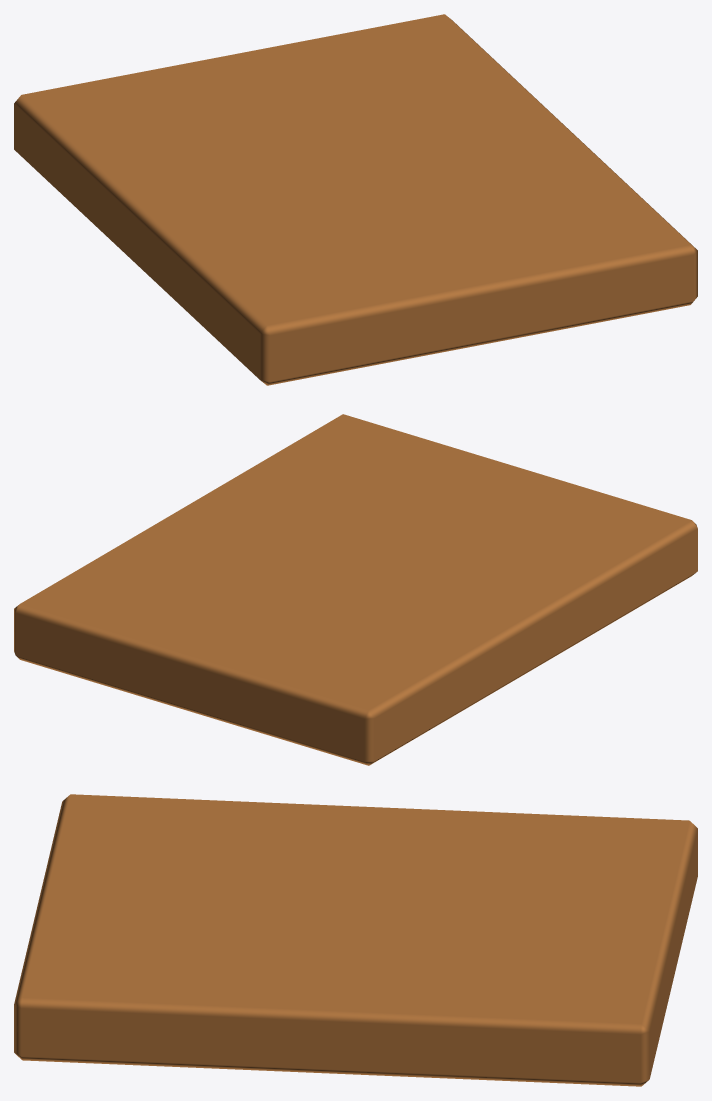
Rendered from book_nightstand_2.fbx.
3 renders of one model, top to bottom at view 1: azimuth 30°, elevation 25°; view 2: azimuth 150°, elevation 25°; view 3: azimuth 270°, elevation 25°, orthographic. The views are drawn at different scales.
Parts seen in each view (by area): view 1: book_nightstand_2; view 2: book_nightstand_2; view 3: book_nightstand_2.
Part boxes in pixels (box(x1,y1,x2,y2)): book_nightstand_2: box(14, 14, 697, 385); book_nightstand_2: box(14, 414, 697, 765); book_nightstand_2: box(14, 794, 697, 1086).
Bounding box in the file's own units: 0.2015 × 0.025 × 0.2462.
